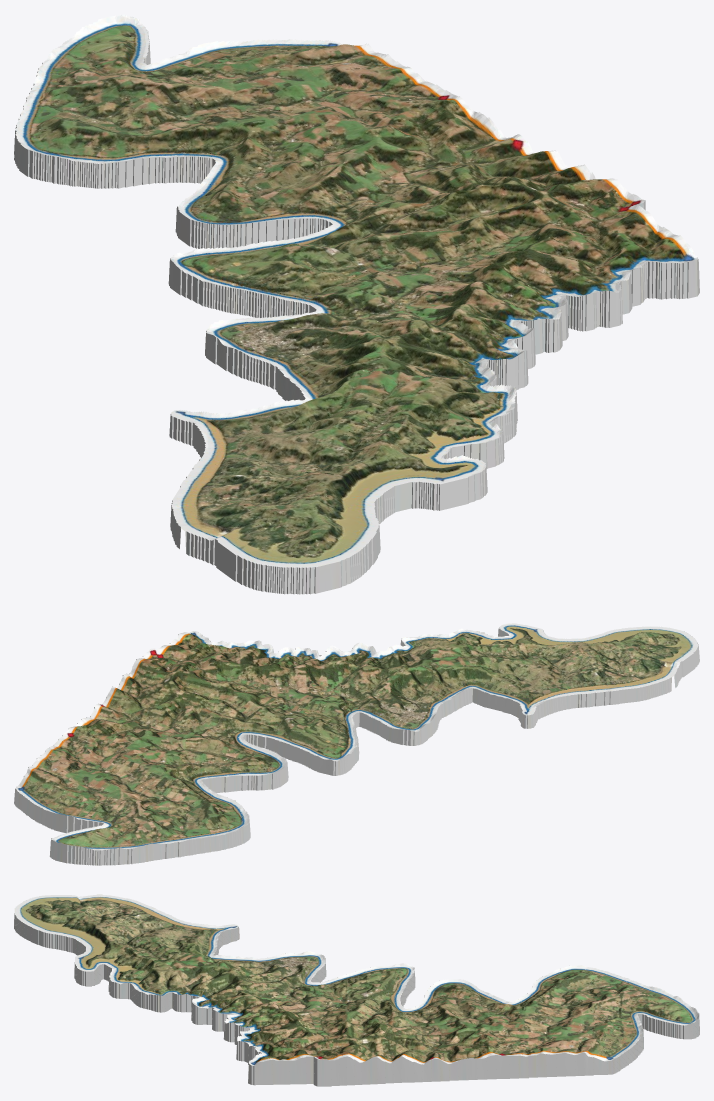
The picture shows the model from 3 angles, top to bottom: view 1: azimuth 30°, elevation 25°; view 2: azimuth 150°, elevation 25°; view 3: azimuth 270°, elevation 25°; orthographic projection. The views are drawn at different scales.
Size of the model in its own units: 1 by 0.0749 by 1.61.
1 material, 1 textured.
